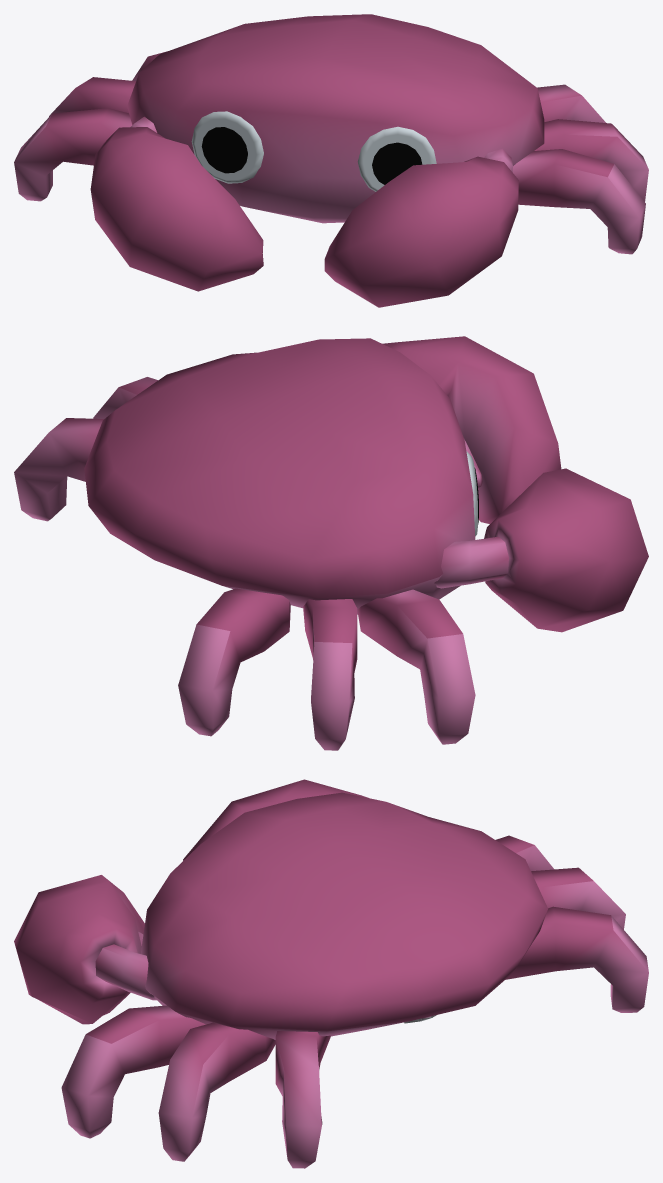
File: Crab.glb
The picture shows the model from 3 angles, top to bottom: view 1: azimuth 30°, elevation 25°; view 2: azimuth 150°, elevation 25°; view 3: azimuth 270°, elevation 25°; orthographic projection. The views are drawn at different scales.
Parts seen in each view (by area): view 1: 34; view 2: 34; view 3: 34.
Part boxes in pixels (x1=…): 34: x1=14, y1=14, x2=648, y2=307; 34: x1=14, y1=336, x2=648, y2=750; 34: x1=14, y1=779, x2=648, y2=1168.
Bounding box in the file's own units: 0.9224 × 0.319 × 0.9188.
